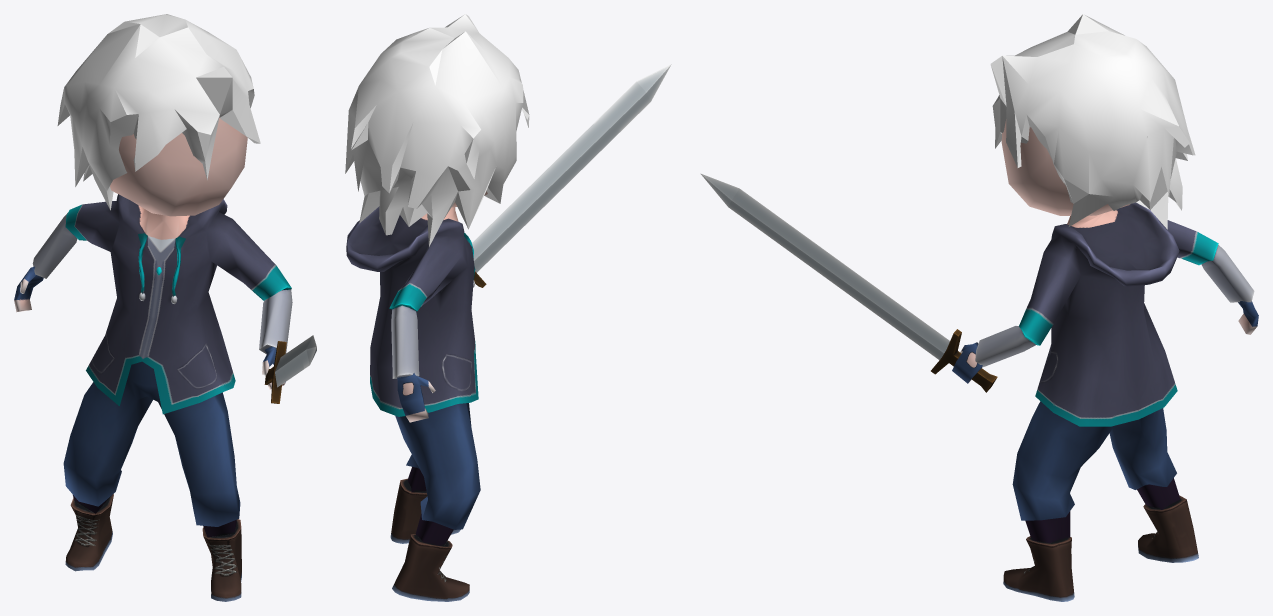
File: boy.obj
3 views of the same model, side by side, from view 1: azimuth 30°, elevation 25°; view 2: azimuth 150°, elevation 25°; view 3: azimuth 270°, elevation 25° (orthographic). The views are drawn at different scales.
Visible parts, largest first — view 1: RPG_Boy, One-handed_Sword; view 2: RPG_Boy, One-handed_Sword; view 3: RPG_Boy, One-handed_Sword.
Boxes of the visible parts, x1,y1,x2,y2 form: RPG_Boy: [14, 14, 292, 601]; One-handed_Sword: [264, 335, 316, 403]; RPG_Boy: [345, 14, 529, 601]; One-handed_Sword: [472, 64, 671, 287]; RPG_Boy: [952, 14, 1258, 601]; One-handed_Sword: [700, 173, 997, 392].
Size of the model in its own units: 0.5613 by 1.77 by 1.63.
